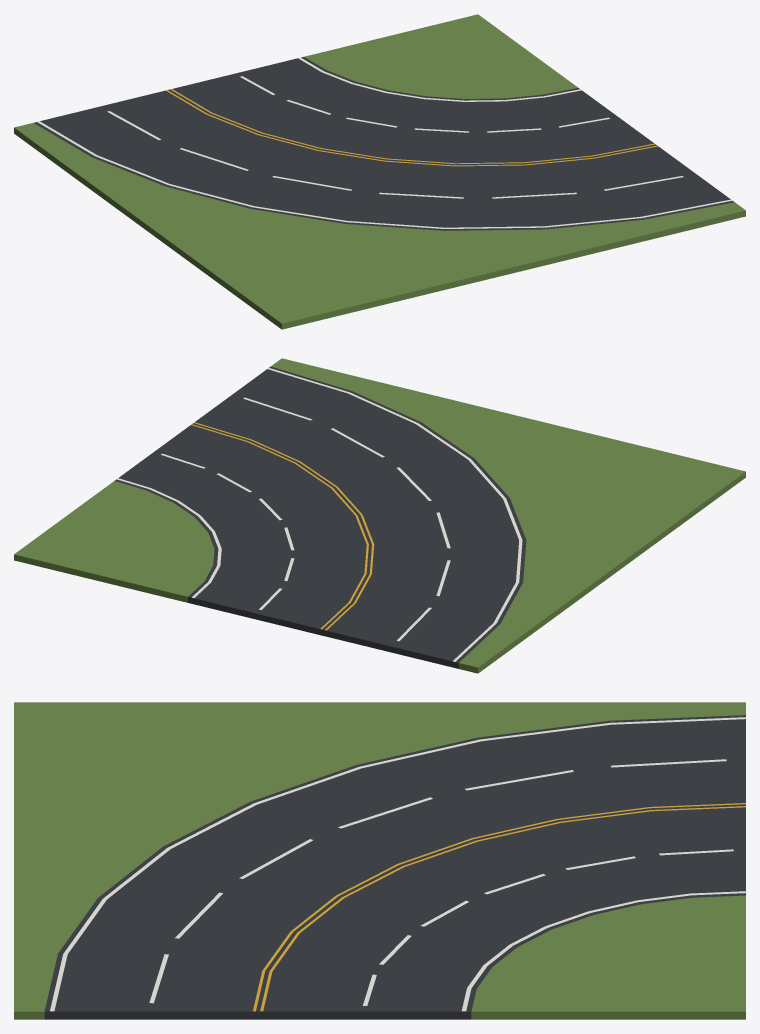
File: Road_4Lane_NoSidewalk_Curve90_L.glb
The picture shows the model from 3 angles, top to bottom: view 1: azimuth 30°, elevation 25°; view 2: azimuth 150°, elevation 25°; view 3: azimuth 270°, elevation 25°; orthographic projection. The views are drawn at different scales.
Parts seen in each view (by area): view 1: Road_4Lane_NoSidewalk_Curve90_L_Asphalt, Road_4Lane_NoSidewalk_Curve90_L_Grass-edge, Road_4Lane_NoSidewalk_Curve90_L_PaintWhite, Road_4Lane_NoSidewalk_Curve90_L_PaintYellow; view 2: Road_4Lane_NoSidewalk_Curve90_L_Asphalt, Road_4Lane_NoSidewalk_Curve90_L_Grass-edge, Road_4Lane_NoSidewalk_Curve90_L_PaintWhite, Road_4Lane_NoSidewalk_Curve90_L_PaintYellow; view 3: Road_4Lane_NoSidewalk_Curve90_L_Asphalt, Road_4Lane_NoSidewalk_Curve90_L_Grass-edge, Road_4Lane_NoSidewalk_Curve90_L_PaintWhite, Road_4Lane_NoSidewalk_Curve90_L_PaintYellow.
Part boxes in pixels (x1,y1,x2,y2): Road_4Lane_NoSidewalk_Curve90_L_Asphalt: (33, 57, 734, 230); Road_4Lane_NoSidewalk_Curve90_L_Grass-edge: (14, 14, 745, 329); Road_4Lane_NoSidewalk_Curve90_L_PaintWhite: (37, 57, 732, 228); Road_4Lane_NoSidewalk_Curve90_L_PaintYellow: (165, 89, 657, 166); Road_4Lane_NoSidewalk_Curve90_L_Asphalt: (115, 366, 526, 668); Road_4Lane_NoSidewalk_Curve90_L_Grass-edge: (14, 358, 745, 673); Road_4Lane_NoSidewalk_Curve90_L_PaintWhite: (117, 368, 522, 661); Road_4Lane_NoSidewalk_Curve90_L_PaintYellow: (191, 422, 374, 630); Road_4Lane_NoSidewalk_Curve90_L_Asphalt: (44, 715, 745, 1019); Road_4Lane_NoSidewalk_Curve90_L_Grass-edge: (14, 702, 745, 1019); Road_4Lane_NoSidewalk_Curve90_L_PaintWhite: (50, 717, 745, 1011); Road_4Lane_NoSidewalk_Curve90_L_PaintYellow: (253, 803, 745, 1011).
Size of the model in its own units: 24 by 0.305 by 24.
